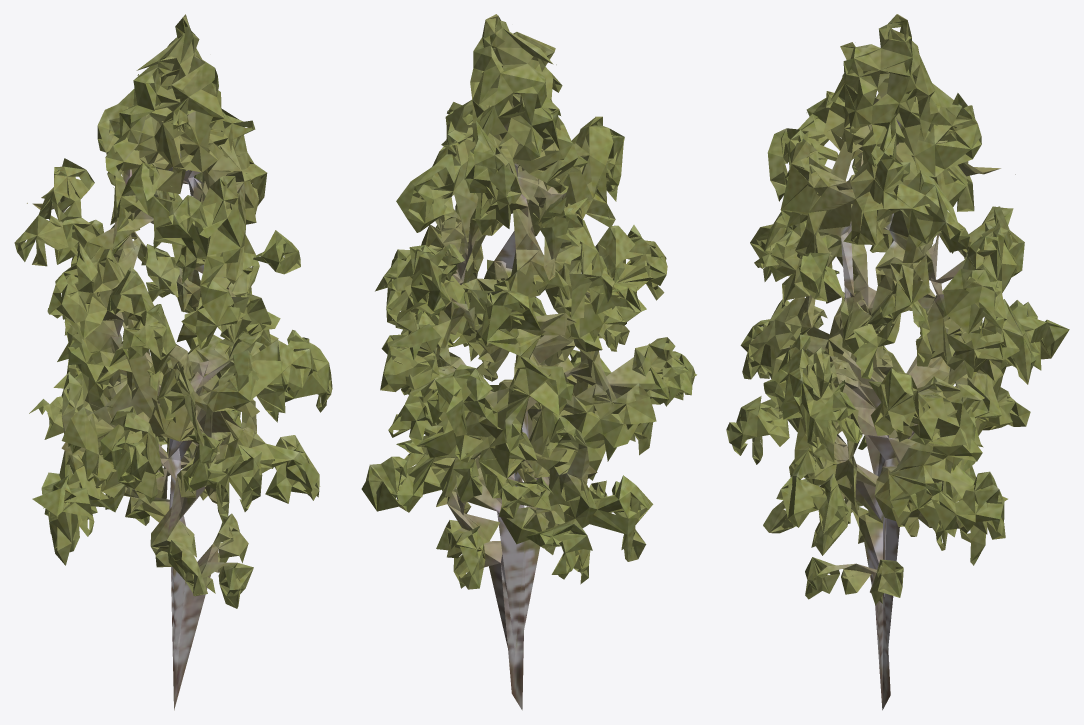
Rendered from tree_birch.obj.
3 renders of one model, left to right at view 1: azimuth 30°, elevation 25°; view 2: azimuth 150°, elevation 25°; view 3: azimuth 270°, elevation 25°, orthographic. The views are drawn at different scales.
Parts seen in each view (by area): view 1: tree_birch; view 2: tree_birch; view 3: tree_birch.
Boxes of the visible parts, x1,y1,x2,y2 form: tree_birch: (14, 14, 332, 710); tree_birch: (361, 14, 696, 710); tree_birch: (726, 14, 1069, 710).
Bounding box in the file's own units: 5.73 × 14 × 6.17.
Materials: 1 (1 with a texture image).
